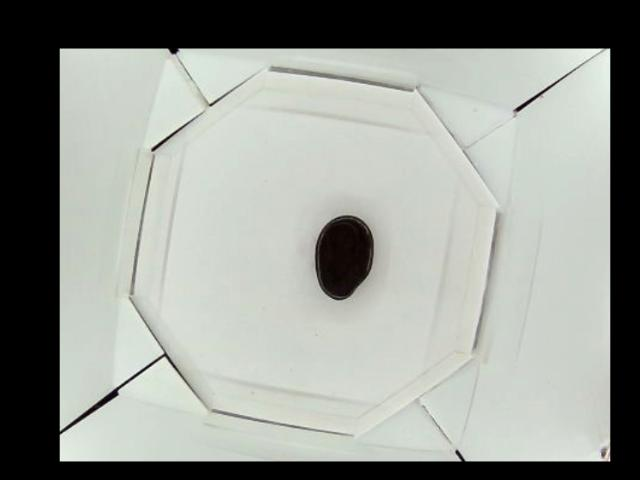Pebble: (314, 214, 374, 299)
